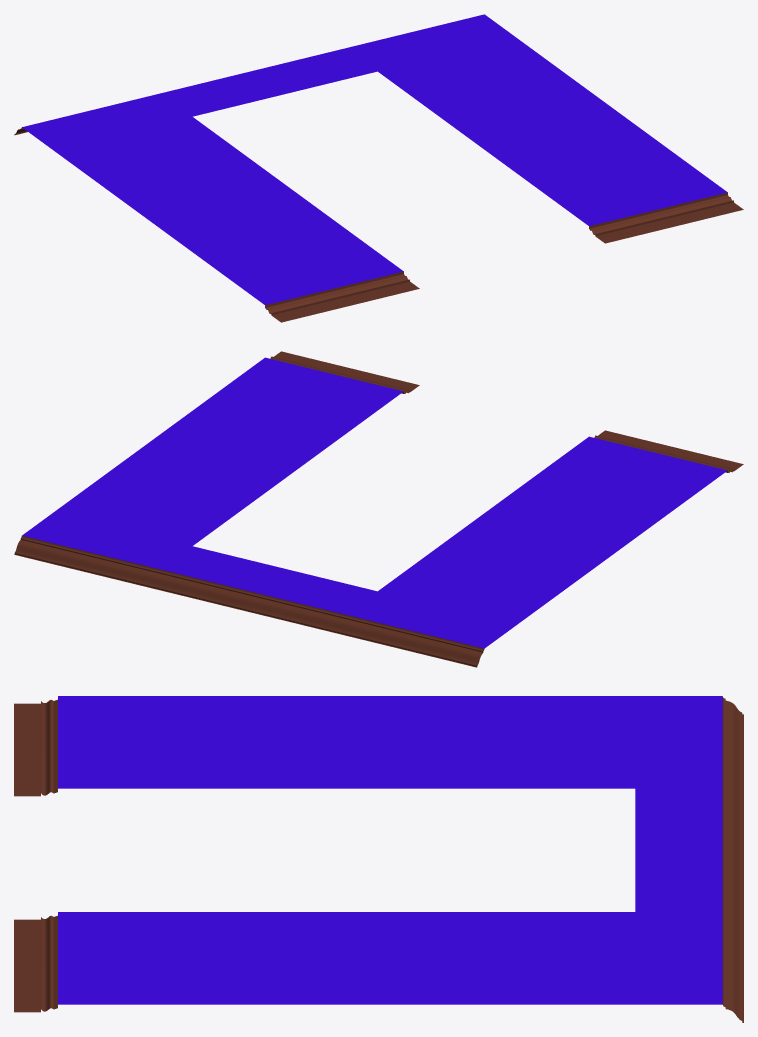
Rendered from WallHole.dae.
The picture shows the model from 3 angles, top to bottom: view 1: azimuth 30°, elevation 25°; view 2: azimuth 150°, elevation 25°; view 3: azimuth 270°, elevation 25°; orthographic projection. The views are drawn at different scales.
Parts seen in each view (by area): view 1: Plane; view 2: Plane; view 3: Plane.
Part boxes in pixels (x1,y1,x2,y2): Plane: (14,14,743,322); Plane: (14,351,743,667); Plane: (14,696,743,1022).
Bounding box in the file's own units: 3 × 3 × 0.0825.
